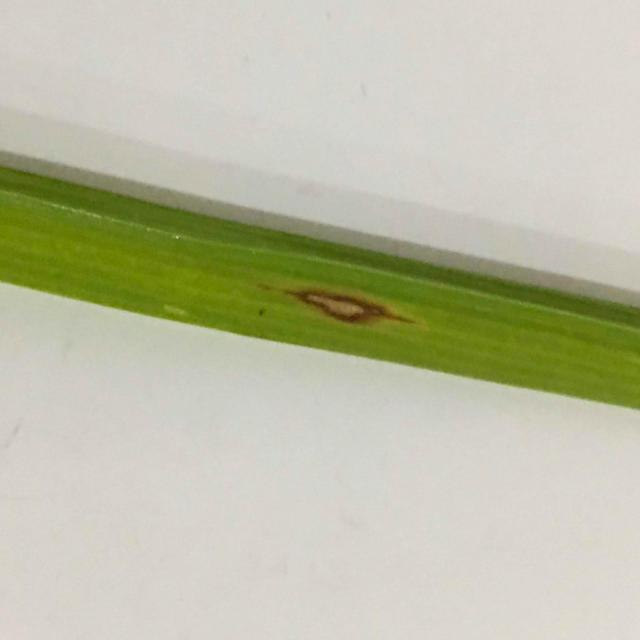Leaf blast: (0, 134, 640, 479)
